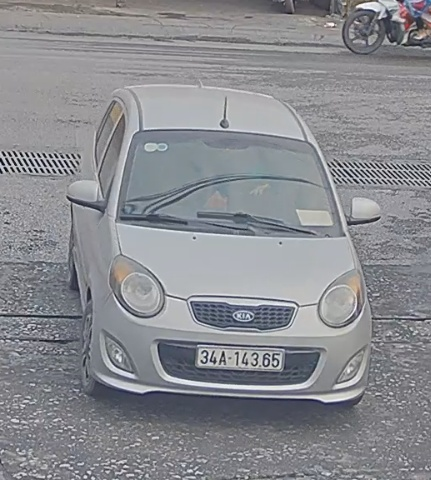vehicle plate: (192, 342, 288, 375)
